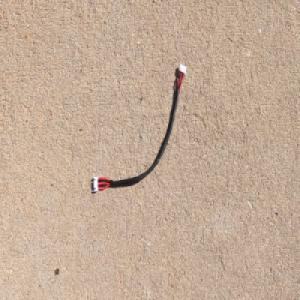Wire: (91, 61, 187, 194)
